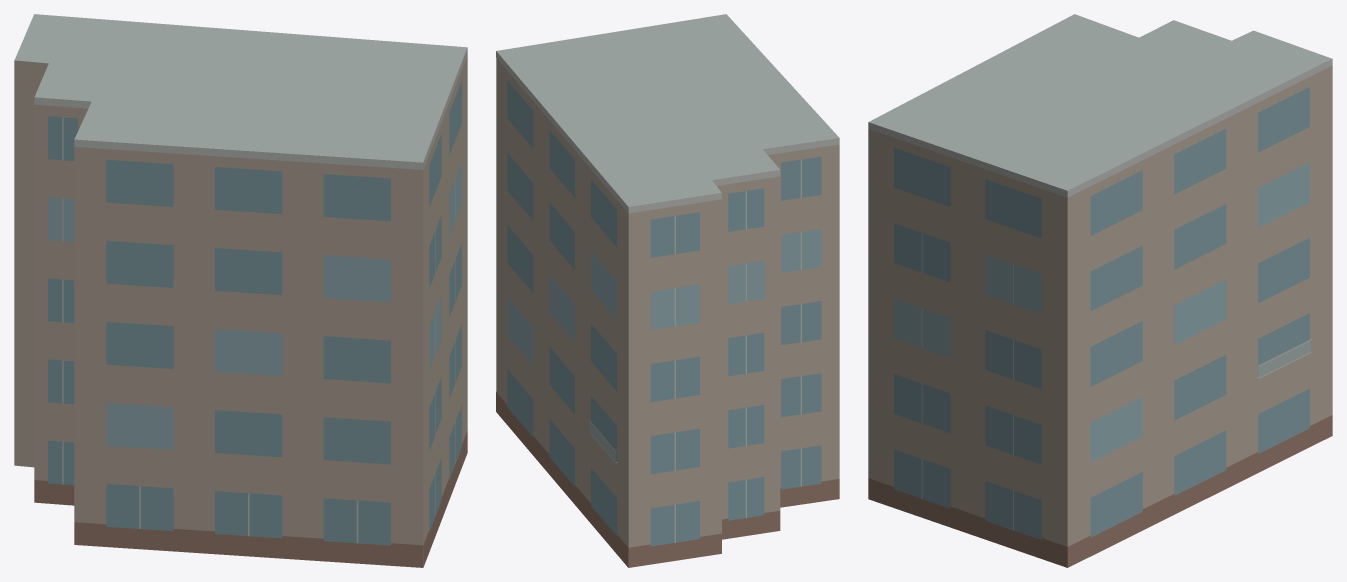
Rendered from survey-upis-32924999.glb.
The picture shows the model from 3 angles, left to right: view 1: azimuth 30°, elevation 25°; view 2: azimuth 150°, elevation 25°; view 3: azimuth 270°, elevation 25°; orthographic projection. The views are drawn at different scales.
Visible parts, largest first — view 1: survey-upis-32924999.tmp; view 2: survey-upis-32924999.tmp; view 3: survey-upis-32924999.tmp.
Boxes of the visible parts, x1=… form: survey-upis-32924999.tmp: x1=14, y1=14, x2=467, y2=567; survey-upis-32924999.tmp: x1=496, y1=14, x2=839, y2=567; survey-upis-32924999.tmp: x1=868, y1=14, x2=1332, y2=567.
Bounding box in the file's own units: 13.59 × 13.5 × 15.07.
